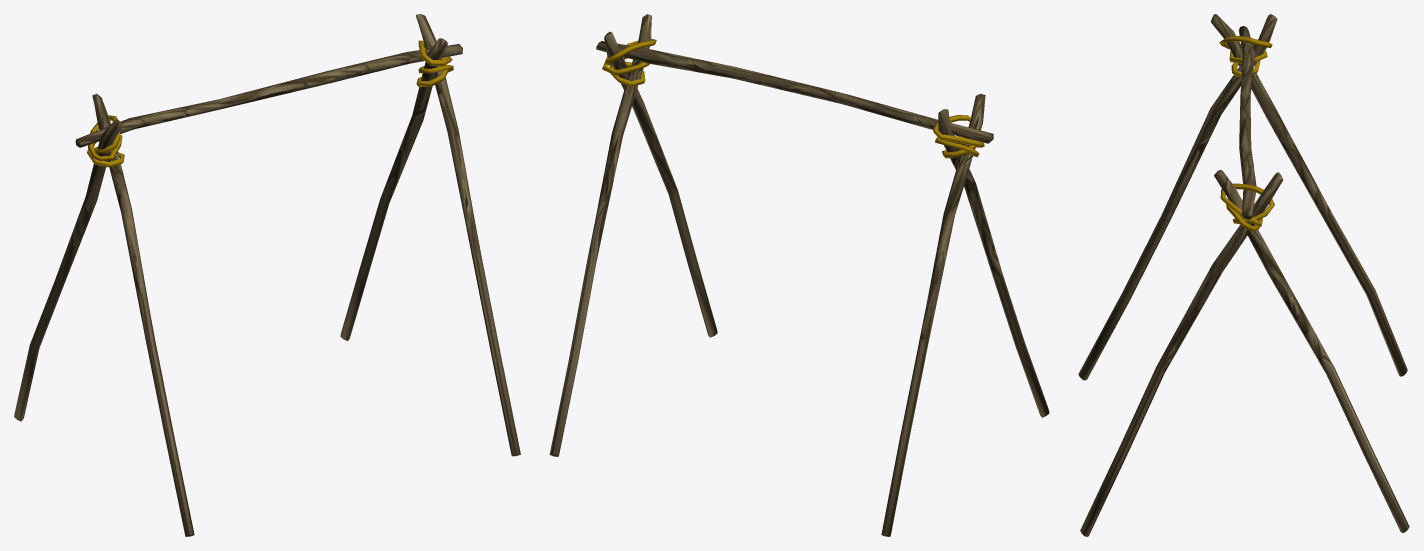
File: Stand01.fbx
3 renders of one model, left to right at view 1: azimuth 30°, elevation 25°; view 2: azimuth 150°, elevation 25°; view 3: azimuth 270°, elevation 25°, orthographic. The views are drawn at different scales.
Parts seen in each view (by area): view 1: Stand01_LOD0; view 2: Stand01_LOD0; view 3: Stand01_LOD0.
Part boxes in pixels (x1,y1,x2,y2): Stand01_LOD0: [14, 14, 520, 536]; Stand01_LOD0: [549, 14, 1049, 536]; Stand01_LOD0: [1078, 14, 1409, 536].
Size of what is drawn, in the model's own units: 109 by 100 by 82.27.
